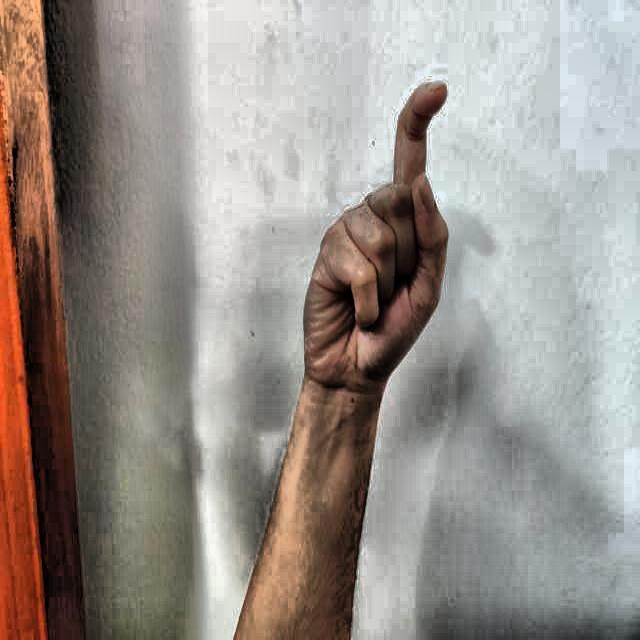E: (268, 63, 470, 411)
